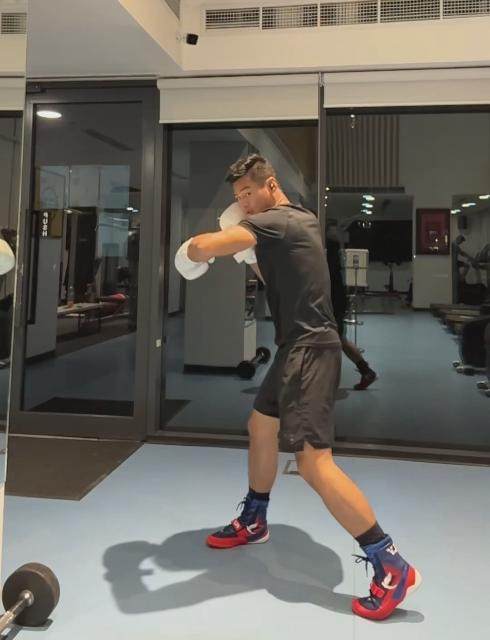punch: (172, 152, 424, 626)
